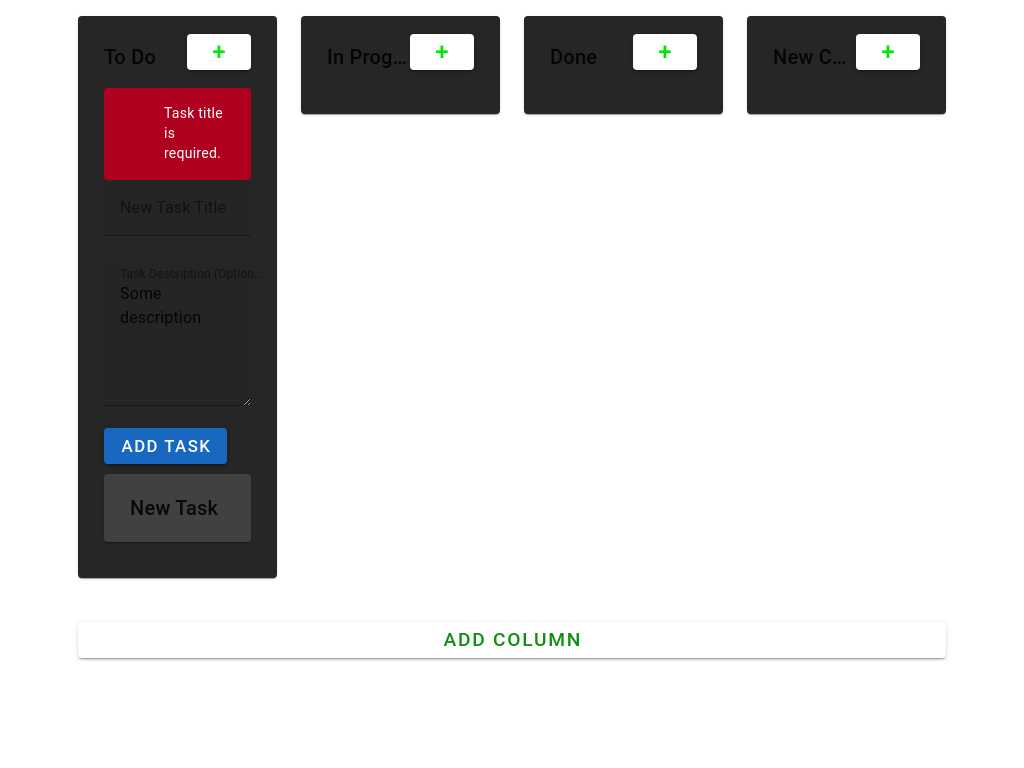
Scenario: KanbanBoard Component › toggles column input visibility
This screenshot has width=1024, height=768.
Check: the field labelled "New Column Title" is not shown
# Open column input
Click the button "Add Column" at (512, 640), box [78,622,946,658]
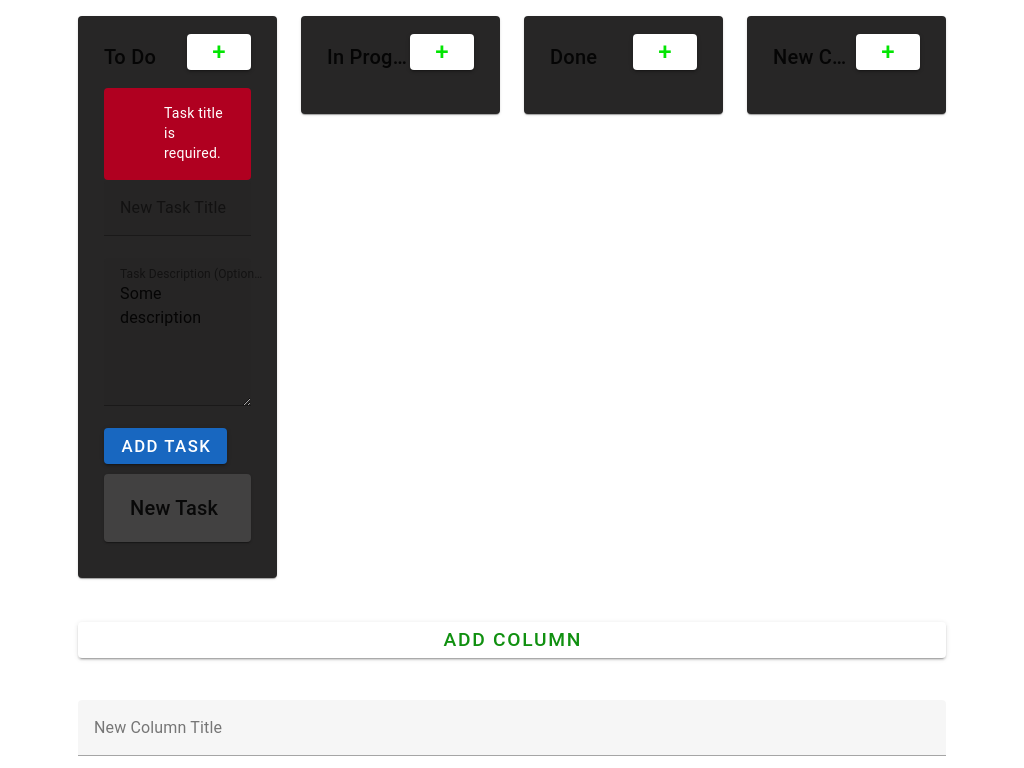
Check: the element labelled "New Column Title" is shown, box [94,718,222,737]
# Close column input
Click the button "Add Column" at (512, 640), box [78,622,946,658]
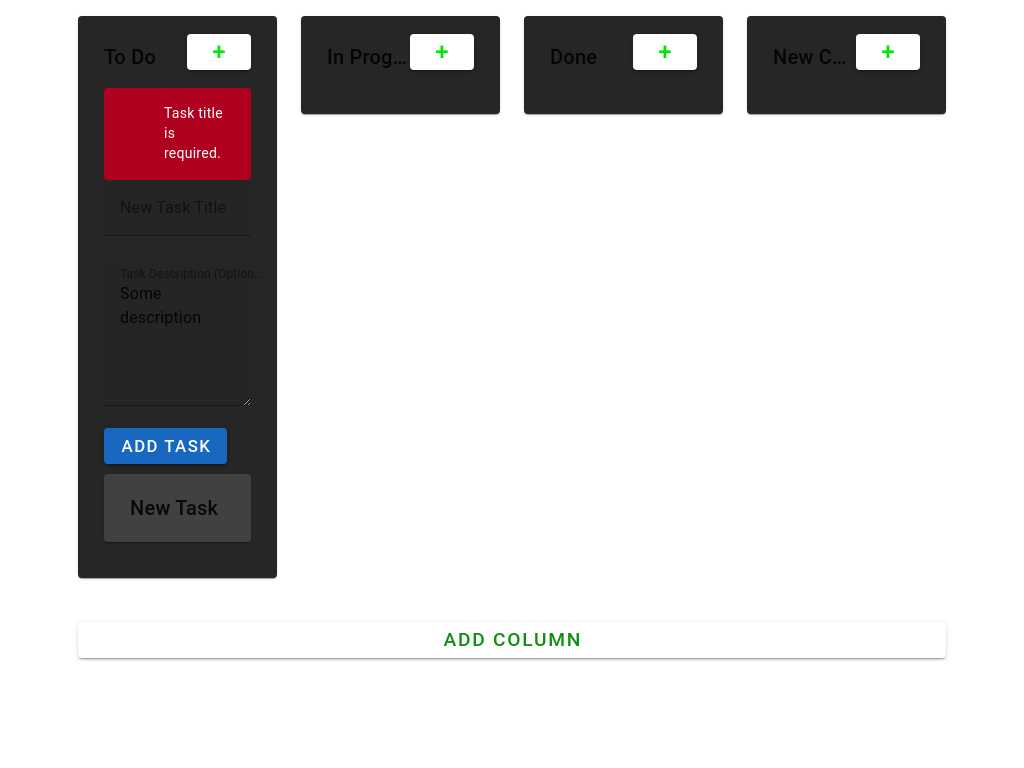
Check: the label labelled "New Column Title" is gone
